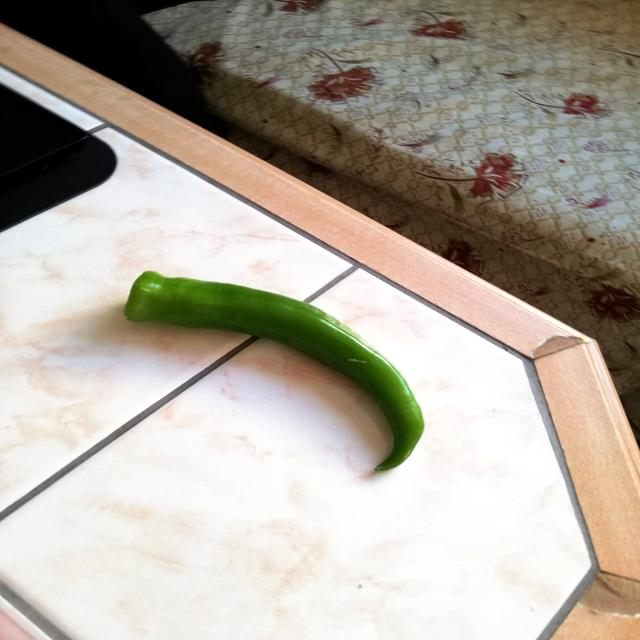green pepper: (117, 264, 430, 478)
